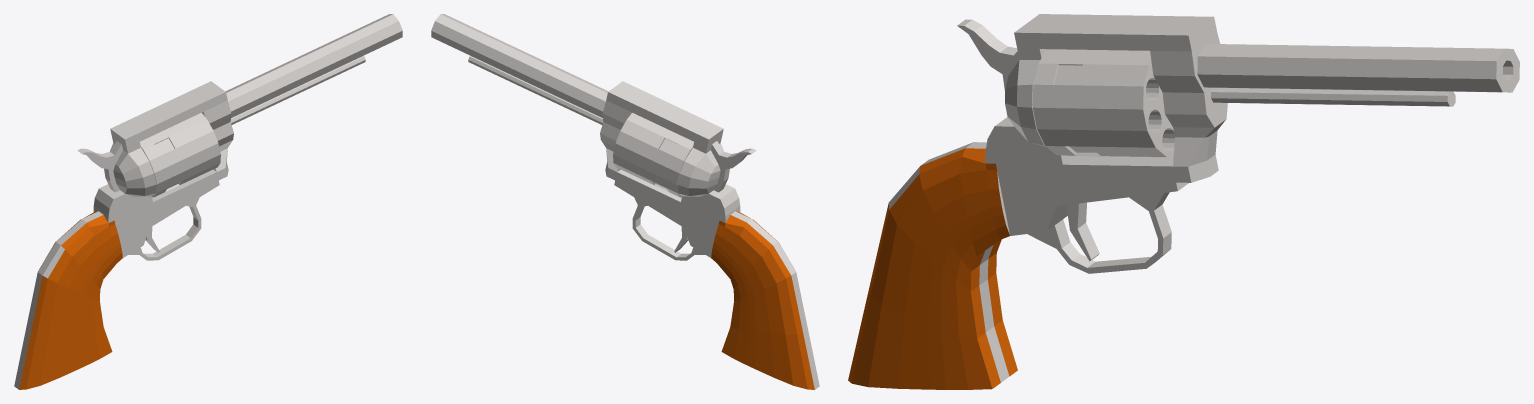
File: ND_revolver.fbx
3 views of the same model, side by side, from view 1: azimuth 30°, elevation 25°; view 2: azimuth 150°, elevation 25°; view 3: azimuth 330°, elevation 25° (orthographic). The views are drawn at different scales.
Visible parts, largest first — view 1: body; view 2: body; view 3: body.
Part boxes in pixels (left/top/right/bottom): body: left=14, top=14, right=402, bottom=389; body: left=431, top=14, right=819, bottom=389; body: left=848, top=14, right=1519, bottom=389.
Size of the model in its own units: 20.97 by 14.8 by 3.2.
